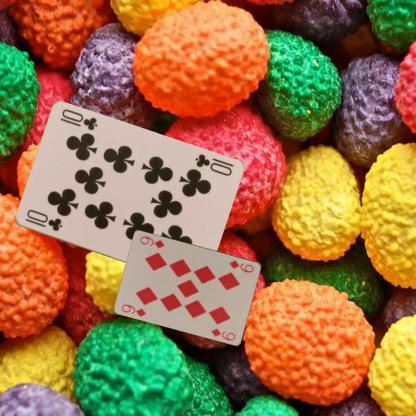10c: (22, 207, 64, 233), (192, 152, 233, 178)
9d: (118, 301, 147, 318), (226, 258, 256, 274)
